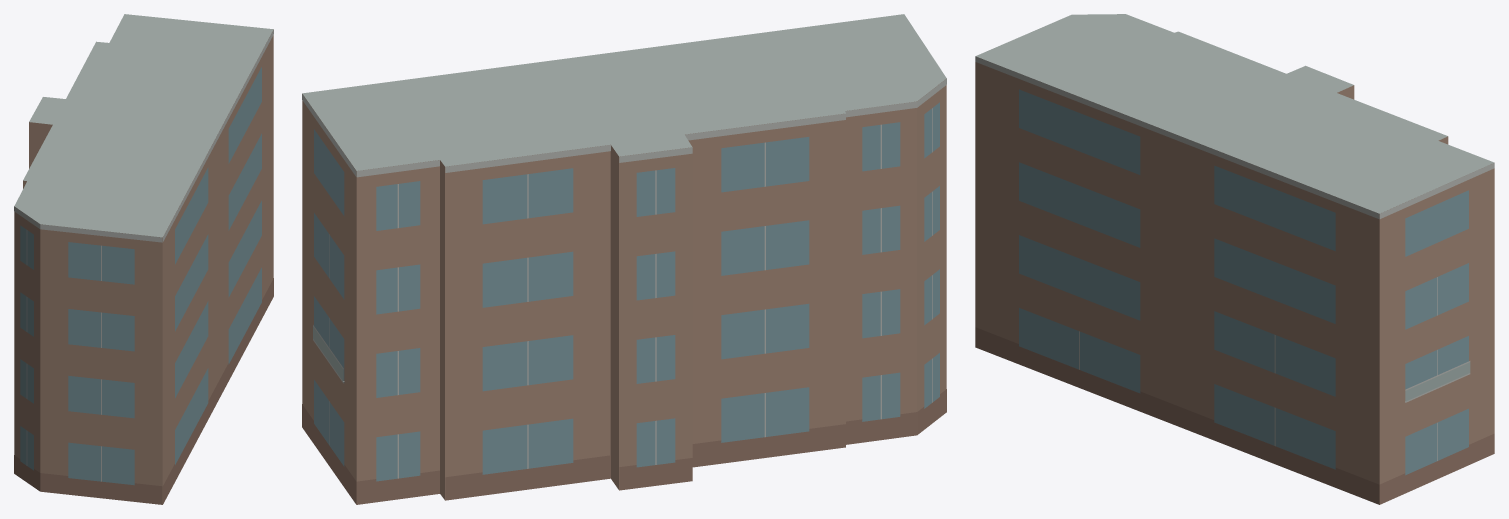
Rendered from survey-upis-32697712.glb.
3 views of the same model, side by side, from view 1: azimuth 30°, elevation 25°; view 2: azimuth 150°, elevation 25°; view 3: azimuth 270°, elevation 25° (orthographic). The views are drawn at different scales.
Parts seen in each view (by area): view 1: survey-upis-32697712.tmp; view 2: survey-upis-32697712.tmp; view 3: survey-upis-32697712.tmp.
Part boxes in pixels (left/top/right/bottom): survey-upis-32697712.tmp: left=14, top=14, right=273, bottom=504; survey-upis-32697712.tmp: left=302, top=14, right=946, bottom=504; survey-upis-32697712.tmp: left=975, top=14, right=1494, bottom=504.
Size of the model in its own units: 18.55 by 12.6 by 20.37.
